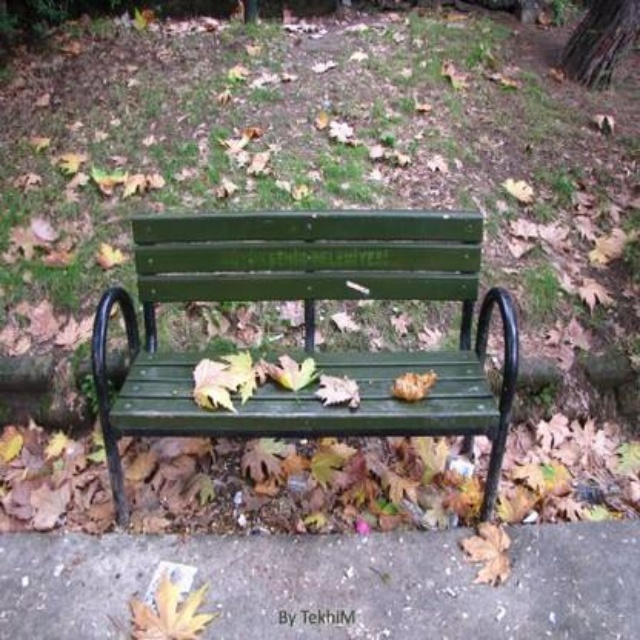obstacle: (75, 198, 540, 538)
